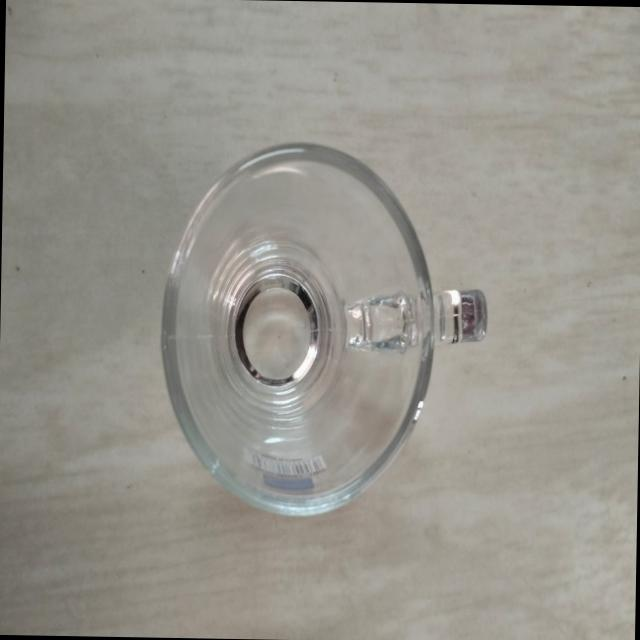glass-VX4N: (149, 138, 492, 520)
